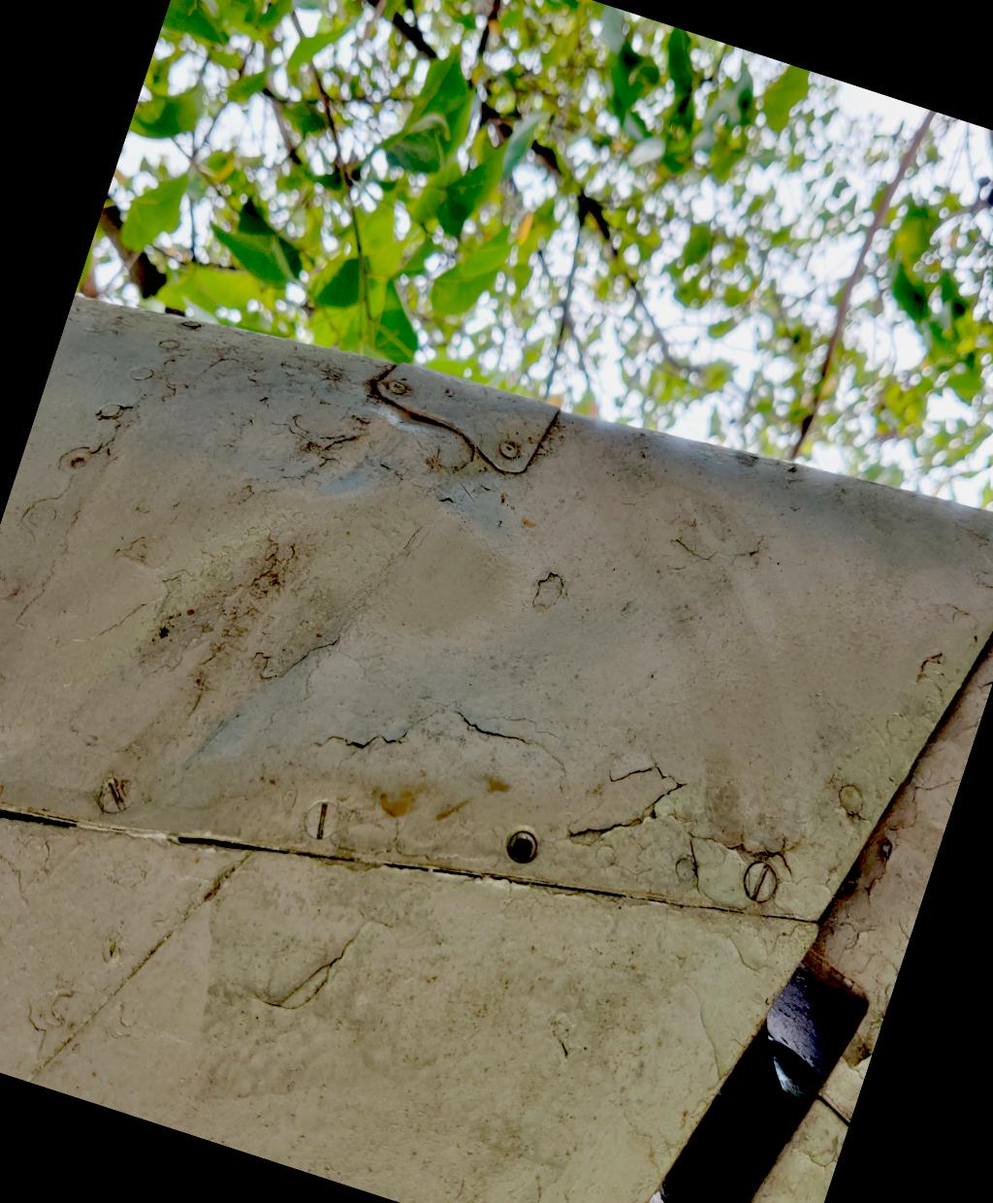dent: (70, 270, 628, 875)
